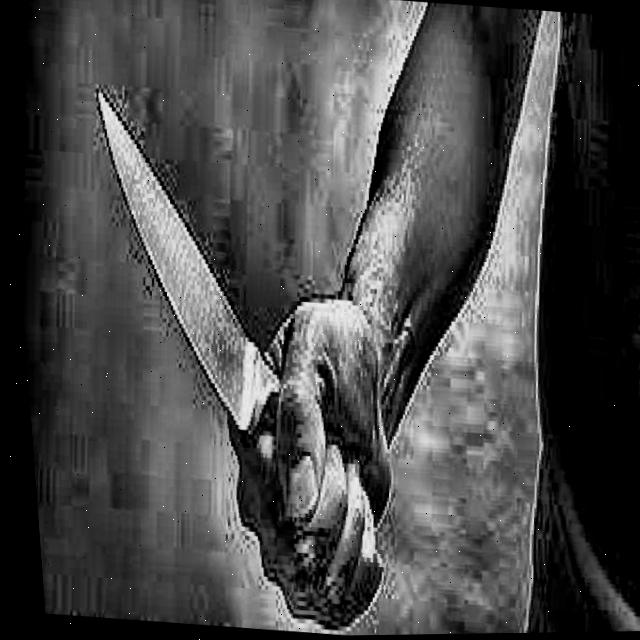pisau: (86, 74, 400, 631)
